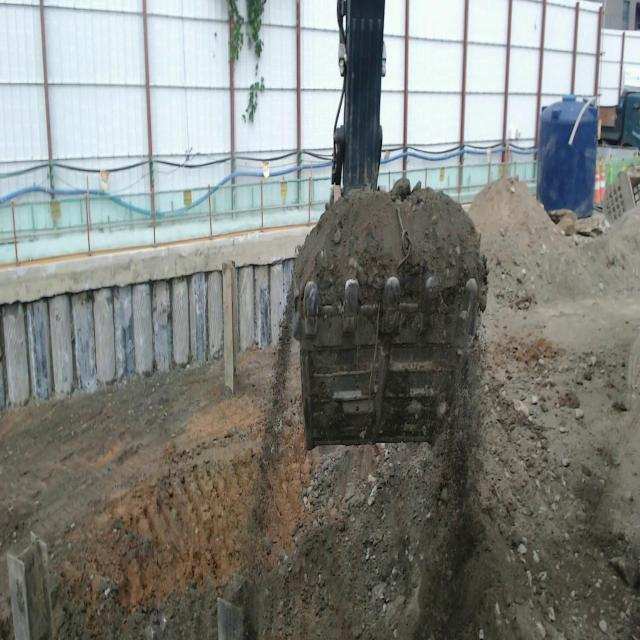red-sand: (0, 343, 439, 639), (468, 180, 640, 639), (292, 180, 488, 312)
